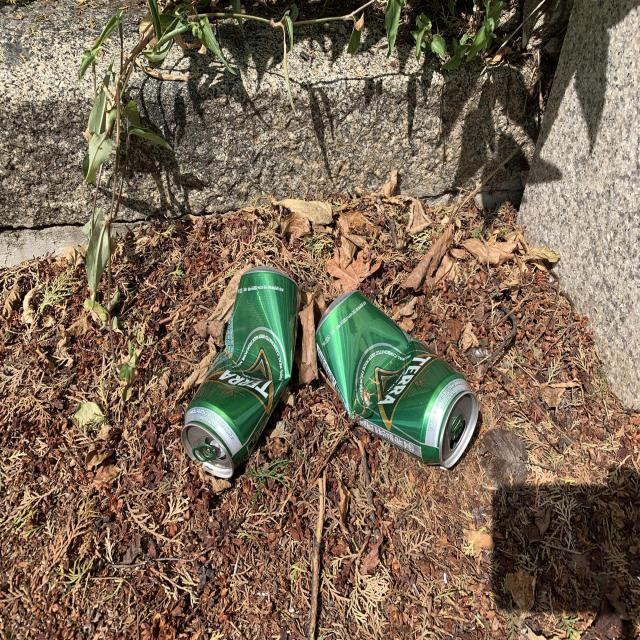can: (316, 290, 479, 469), (181, 266, 300, 478)
